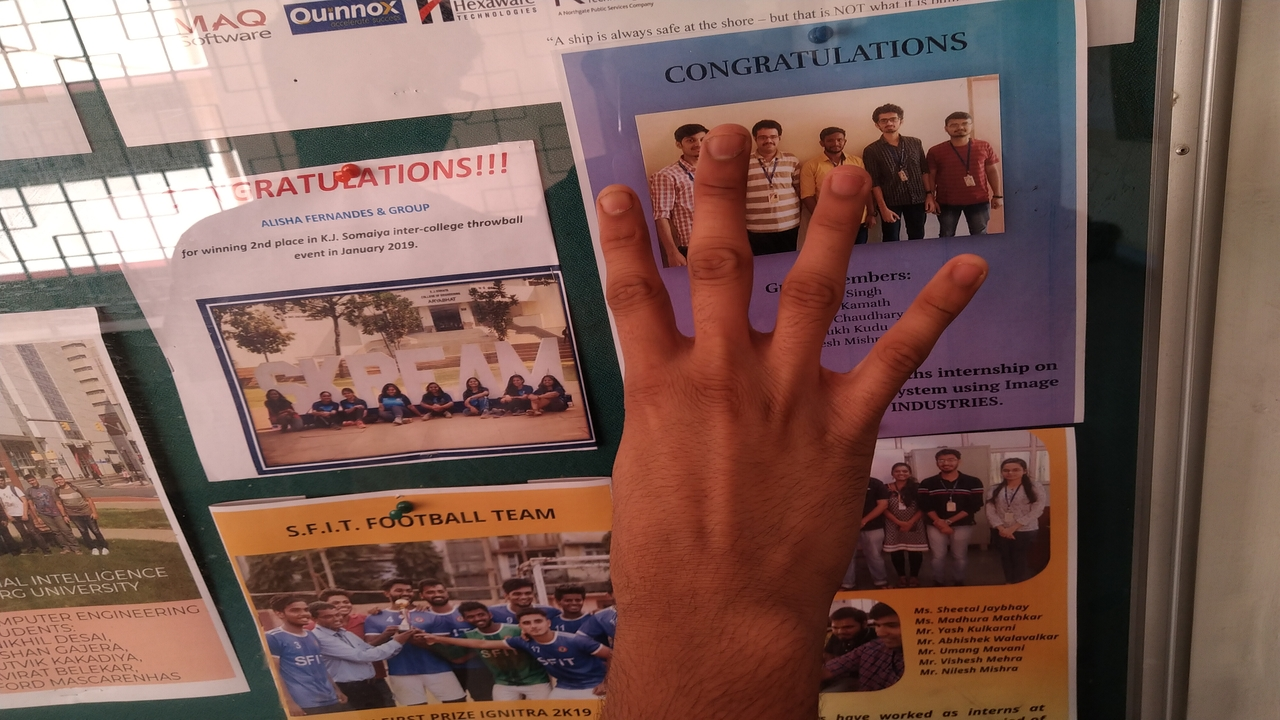fingertip: (582, 174, 648, 229), (696, 116, 758, 172), (936, 248, 994, 300), (818, 158, 876, 210)
